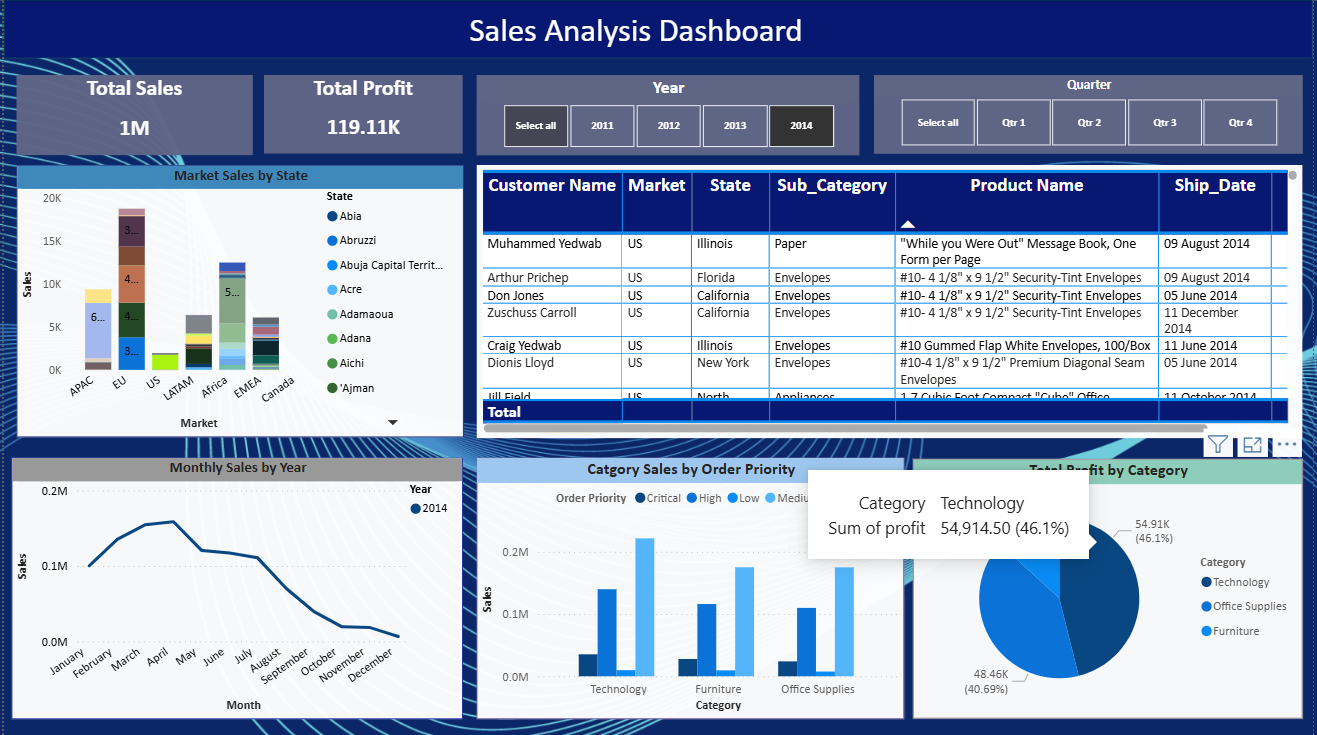

What the dashboard file says about the page in this screenshot:
{"tool":"powerbi","page":{"name":"Sales_Analysis","canvas":[1280,720],"ordinal":0},"visuals":[{"type":"card","title":"Total Sales","fields":{"Values":["SuperStoreOrders2.sales"]},"box":[12.2,73.4,231.1,78.3],"z":0},{"type":"card","title":"Total Profit","fields":{"Values":["SuperStoreOrders2.profit"]},"box":[254.3,73.4,194.4,77],"z":1000},{"type":"slicer","title":"Year","fields":{"Values":["SuperStoreOrders2.year"]},"box":[462.2,73.4,374.2,78.3],"z":2000},{"type":"tableEx","fields":{"Values":["SuperStoreOrders2.customer_name","SuperStoreOrders2.market","SuperStoreOrders2.state","SuperStoreOrders2.sub_category","SuperStoreOrders2.product_name","SuperStoreOrders2.ship_date","SuperStoreOrders2.sales"]},"box":[462,161.1,807.9,267],"z":3000},{"type":"columnChart","title":"Market Sales by State","fields":{"Y":["SuperStoreOrders2.sales"],"Category":["SuperStoreOrders2.market"],"Series":["SuperStoreOrders2.state"]},"box":[12.3,161.9,437.7,266.2],"z":4000},{"type":"lineChart","title":"Monthly Sales by Year","fields":{"Y":["SuperStoreOrders2.sales"],"Series":["SuperStoreOrders2.order_date.Variation.Date Hierarchy.Year"],"Category":["SuperStoreOrders2.order_date.Variation.Date Hierarchy.Month"]},"box":[7.9,447.3,441.7,255.8],"z":5000},{"type":"slicer","title":"Quarter","fields":{"Values":["SuperStoreOrders2.order_date.Variation.Date Hierarchy.Quarter"]},"box":[851.1,73.4,419.4,77],"z":6000},{"type":"clusteredColumnChart","title":"Catgory Sales by Order Priority","fields":{"Category":["SuperStoreOrders2.category"],"Y":["SuperStoreOrders2.sales"],"Series":["SuperStoreOrders2.order_priority"]},"box":[461.6,447.7,418.6,255.8],"z":7000},{"type":"pieChart","title":"Total Profit by Category","fields":{"Category":["SuperStoreOrders2.category"],"Y":["SuperStoreOrders2.profit"]},"box":[889,448.8,381.5,254.3],"z":8000},{"type":"shape","box":[0,0,1280.2,57],"z":9000},{"type":"textbox","title":"Sales Analysis Dashboard","box":[372.1,9.3,493,38.4],"z":10000}]}

Visuals, with their boxes in screenshot pixels (x1, y1, x2, y2), scaled from the page's 1280x720 canvas onto the 1317x735 screenshot:
"Total Sales" card: x1=13 y1=75 x2=250 y2=155
"Total Profit" card: x1=262 y1=75 x2=462 y2=154
"Year" slicer: x1=476 y1=75 x2=861 y2=155
tableEx - SuperStoreOrders2.customer_name x SuperStoreOrders2.market: x1=475 y1=164 x2=1307 y2=437
"Market Sales by State" columnChart: x1=13 y1=165 x2=463 y2=437
"Monthly Sales by Year" lineChart: x1=8 y1=457 x2=463 y2=718
"Quarter" slicer: x1=876 y1=75 x2=1307 y2=154
"Catgory Sales by Order Priority" clusteredColumnChart: x1=475 y1=457 x2=906 y2=718
"Total Profit by Category" pieChart: x1=915 y1=458 x2=1307 y2=718
shape: x1=0 y1=0 x2=1316 y2=58
"Sales Analysis Dashboard" textbox: x1=383 y1=9 x2=890 y2=49
